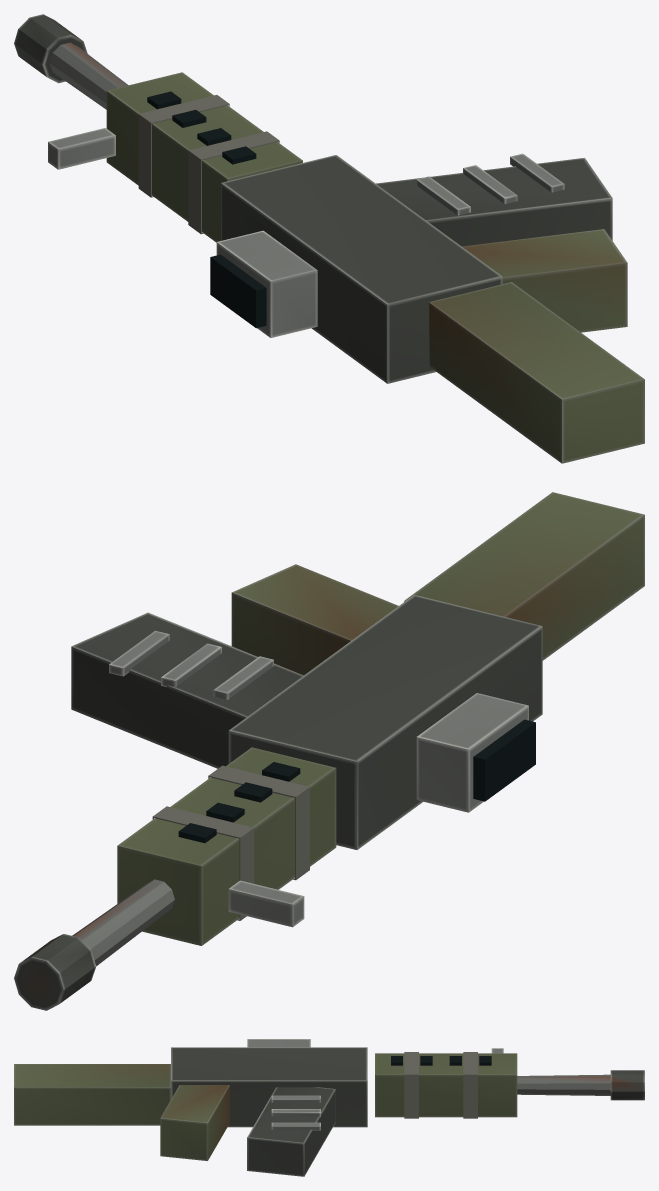
The model's file is modular_m4_carbine.glb.
3 views of the same model, one above another, from view 1: azimuth 30°, elevation 25°; view 2: azimuth 150°, elevation 25°; view 3: azimuth 270°, elevation 25° (orthographic). The views are drawn at different scales.
Visible parts, largest first — view 1: groundWeapon-assault, frissonWeaponDress; view 2: groundWeapon-assault, frissonWeaponDress; view 3: groundWeapon-assault, frissonWeaponDress.
Boxes of the visible parts, x1,y1,x2,y2 form: groundWeapon-assault: [14, 14, 644, 463]; frissonWeaponDress: [138, 95, 279, 234]; groundWeapon-assault: [14, 492, 644, 1010]; frissonWeaponDress: [152, 765, 309, 920]; groundWeapon-assault: [14, 1039, 644, 1176]; frissonWeaponDress: [404, 1052, 477, 1118].
Bounding box in the file's own units: 0.5174 × 0.108 × 1.28.
